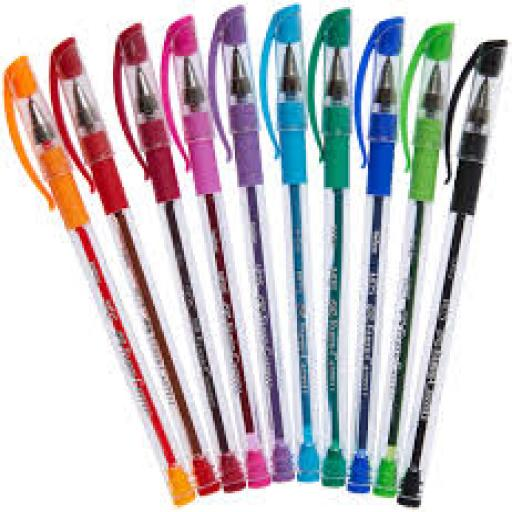tukenmez-kalem: (0, 23, 512, 512)
